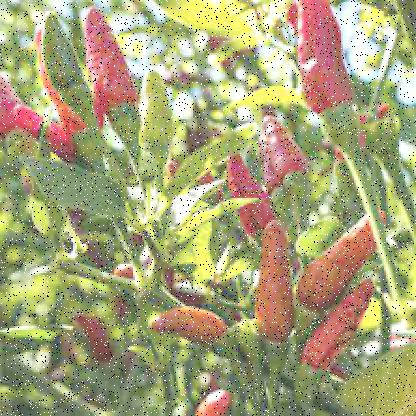chili: (276, 1, 360, 106), (77, 9, 142, 108), (208, 152, 280, 232), (256, 216, 294, 346), (146, 296, 228, 350), (254, 108, 310, 181)
